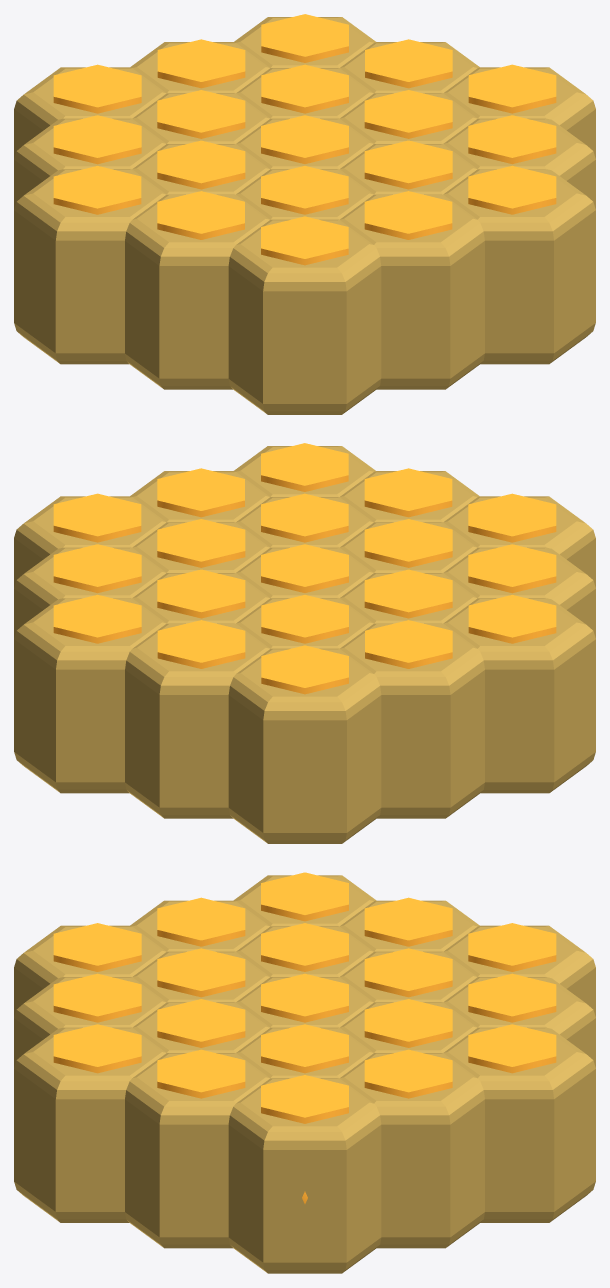
File: honey.glb
3 views of the same model, one above another, from view 1: azimuth 30°, elevation 25°; view 2: azimuth 150°, elevation 25°; view 3: azimuth 270°, elevation 25° (orthographic).
Visible parts, largest first — view 1: honey; view 2: honey; view 3: honey.
Boxes of the visible parts, box(x1,y1,x2,y2) form: honey: box(14, 14, 595, 414); honey: box(14, 443, 595, 843); honey: box(14, 872, 595, 1273).
Bounding box in the file's own units: 0.1357 × 0.0365 × 0.1263.
